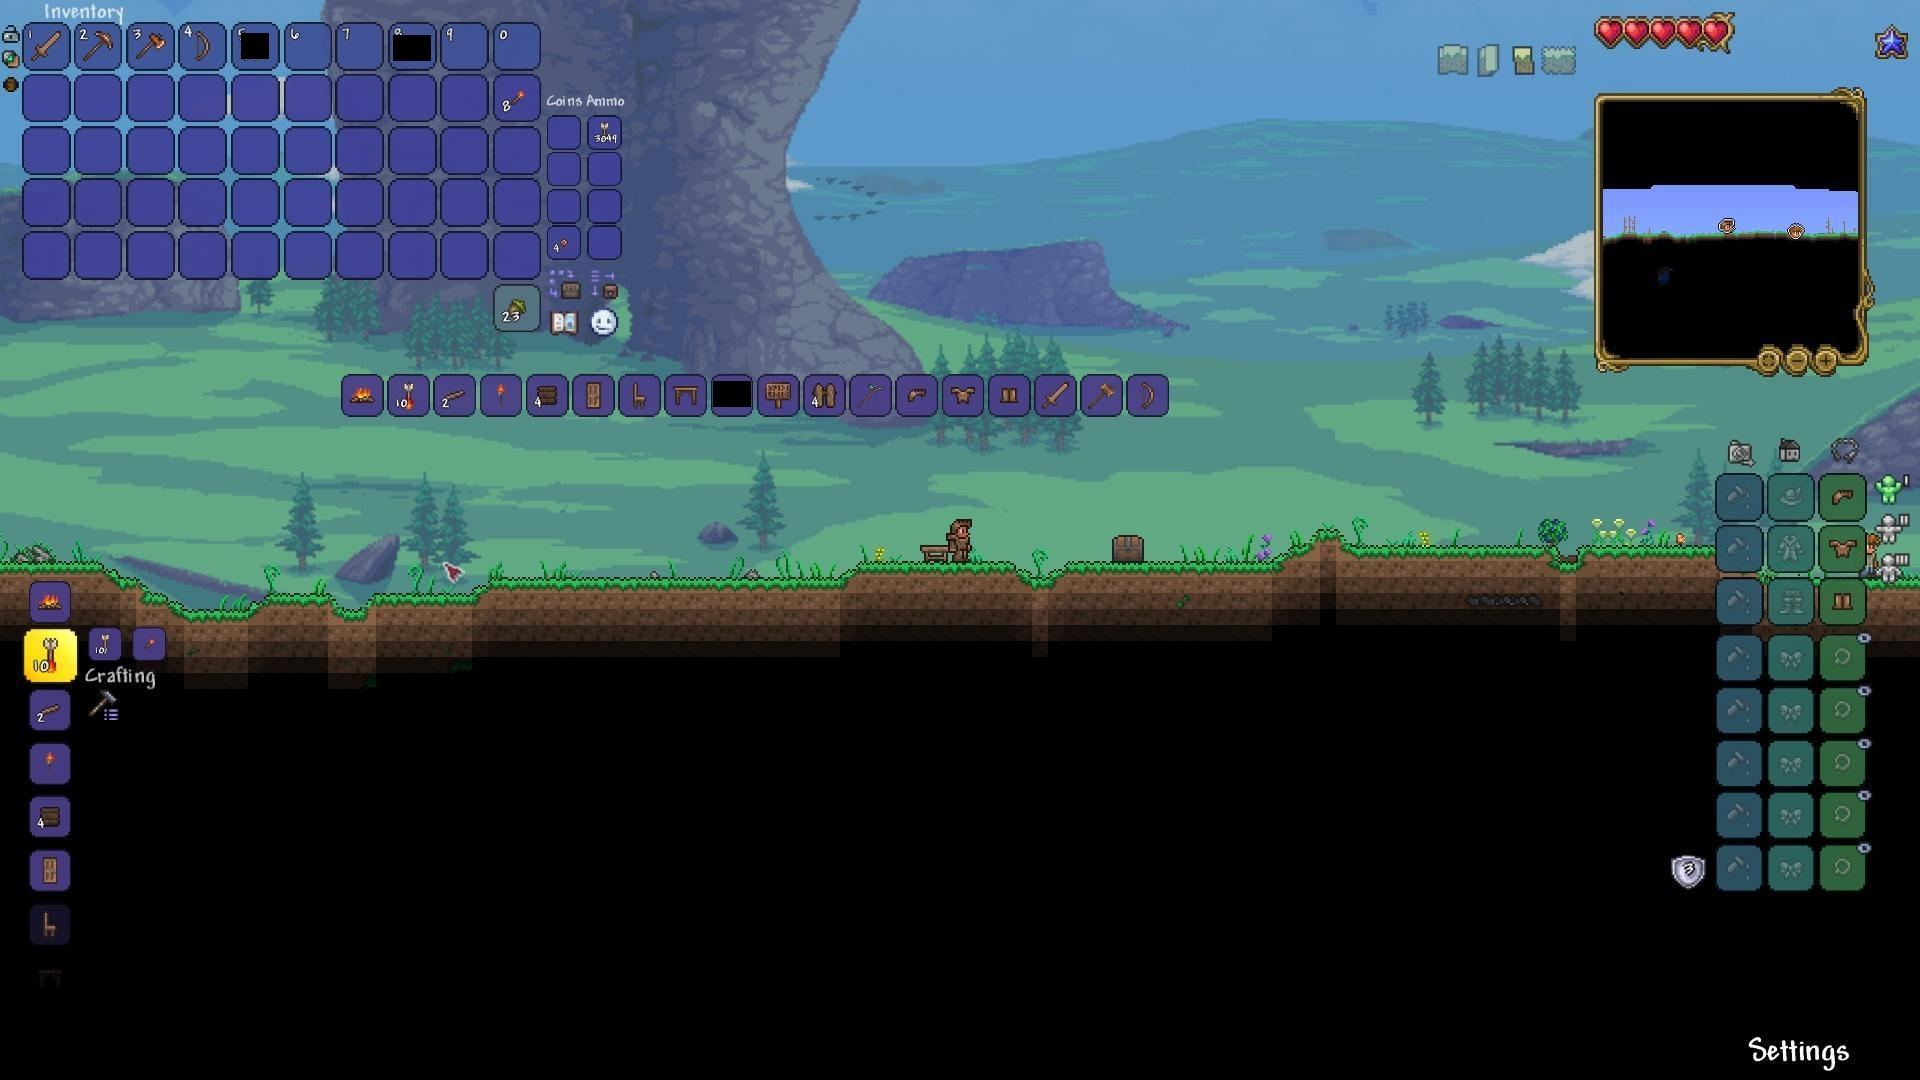breastplate: (1829, 538, 1858, 559), (948, 382, 977, 404)
helmet: (1828, 483, 1859, 512), (902, 382, 934, 410)
legs: (998, 382, 1023, 410), (1832, 588, 1855, 616)
workbench: (916, 541, 953, 566)
